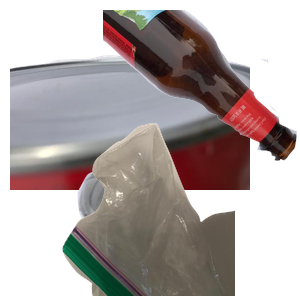glass: (103, 10, 300, 163)
metal: (10, 52, 250, 232)
plastic: (75, 154, 248, 300)
trash: (60, 120, 300, 300)
